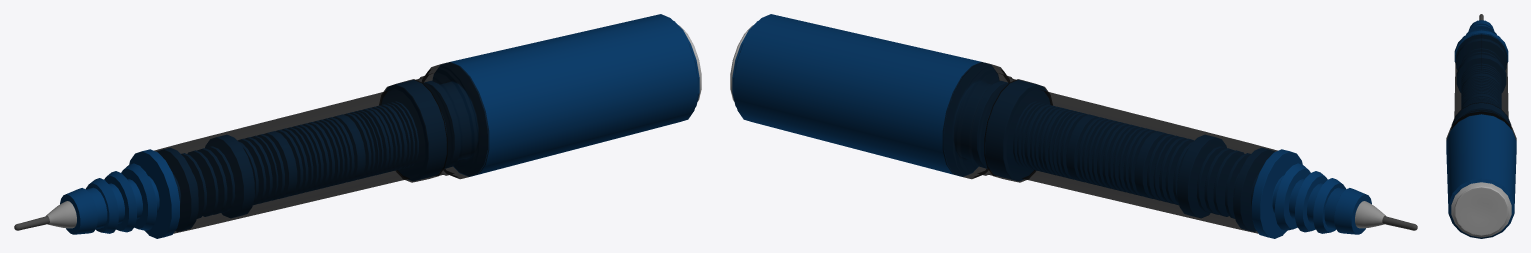
Rendered from pilot_pen_wepon.fbx.
3 renders of one model, left to right at view 1: azimuth 30°, elevation 25°; view 2: azimuth 150°, elevation 25°; view 3: azimuth 270°, elevation 25°, orthographic. The views are drawn at different scales.
Parts seen in each view (by area): view 1: Inbal_kaiser__pilot_pen_MDL:polySurface1; view 2: Inbal_kaiser__pilot_pen_MDL:polySurface1; view 3: Inbal_kaiser__pilot_pen_MDL:polySurface1.
Part boxes in pixels (x1,y1,x2,y2): Inbal_kaiser__pilot_pen_MDL:polySurface1: [14, 14, 701, 238]; Inbal_kaiser__pilot_pen_MDL:polySurface1: [730, 14, 1417, 238]; Inbal_kaiser__pilot_pen_MDL:polySurface1: [1446, 14, 1516, 238].
Bounding box in the file's own units: 6.62 × 1.01 × 0.9994.
